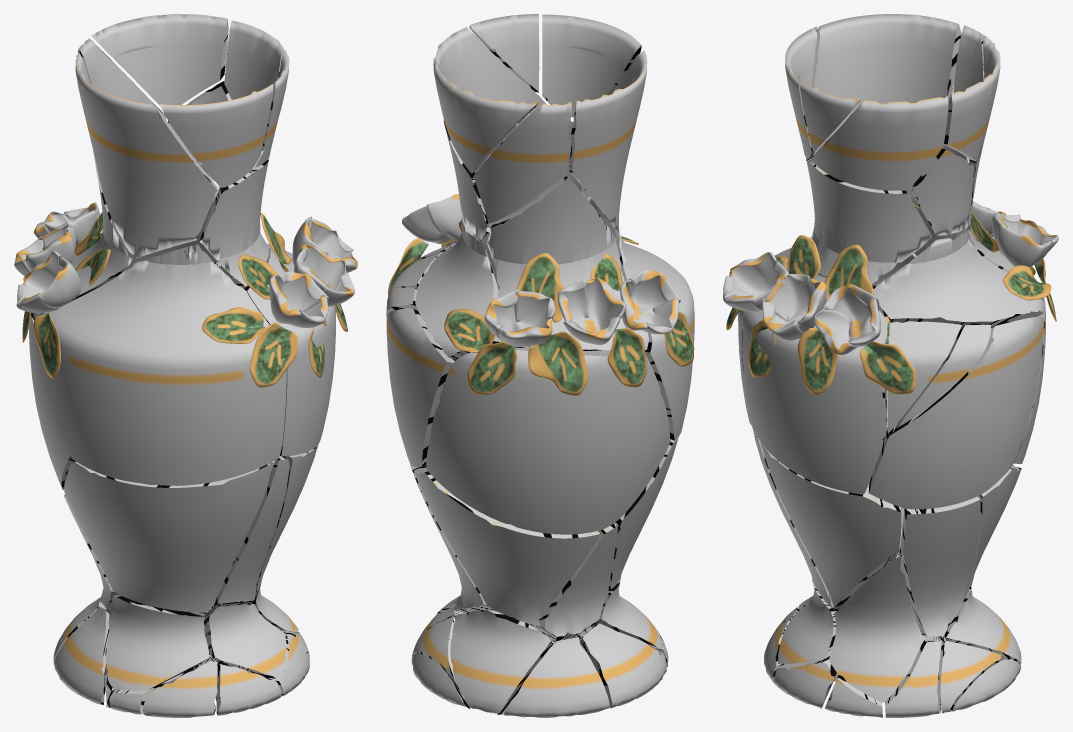
File: FbxGrandVase_Shattered.fbx
3 renders of one model, left to right at view 1: azimuth 30°, elevation 25°; view 2: azimuth 150°, elevation 25°; view 3: azimuth 270°, elevation 25°, orthographic.
Visible parts, largest first — view 1: GrandVase_Destroy.047, GrandVase_Destroy.023, GrandVase_Destroy.010, GrandVase_Destroy.022, GrandVase_Destroy.034, GrandVase_Destroy.051, GrandVase_Destroy.048, GrandVase_Destroy.019, GrandVase_Destroy.039, GrandVase_Destroy.027, GrandVase_Destroy.042, GrandVase_Destroy.009 (+22 smaller); view 2: GrandVase_Destroy.001, GrandVase_Destroy.004, GrandVase_Destroy.036, GrandVase_Destroy.057, GrandVase_Destroy.011, GrandVase_Destroy.010, GrandVase_Destroy.005, GrandVase_Destroy.048, GrandVase_Destroy.056, GrandVase_Destroy.015, GrandVase_Destroy.049, GrandVase_Destroy.044 (+19 smaller); view 3: GrandVase_Destroy.015, GrandVase_Destroy.019, GrandVase_Destroy.010, GrandVase_Destroy.020, GrandVase_Destroy.049, GrandVase_Destroy.009, GrandVase_Destroy.054, GrandVase_Destroy.012, GrandVase_Destroy.039, GrandVase_Destroy.021, GrandVase_Destroy.052, GrandVase_Destroy.007 (+23 smaller).
Part boxes in pixels (x1,y1,x2,y2): GrandVase_Destroy.047: (34, 244, 286, 485); GrandVase_Destroy.023: (64, 461, 275, 612); GrandVase_Destroy.010: (75, 52, 217, 257); GrandVase_Destroy.022: (92, 14, 228, 105); GrandVase_Destroy.034: (106, 595, 209, 690); GrandVase_Destroy.051: (202, 271, 328, 387); GrandVase_Destroy.048: (159, 83, 273, 187); GrandVase_Destroy.019: (244, 249, 335, 456); GrandVase_Destroy.039: (199, 156, 269, 287); GrandVase_Destroy.027: (204, 604, 286, 678); GrandVase_Destroy.042: (217, 456, 289, 603); GrandVase_Destroy.009: (224, 20, 284, 167); GrandVase_Destroy.001: (426, 346, 670, 534); GrandVase_Destroy.004: (413, 465, 601, 626); GrandVase_Destroy.036: (486, 176, 648, 350); GrandVase_Destroy.057: (516, 253, 626, 395); GrandVase_Destroy.011: (450, 609, 552, 712); GrandVase_Destroy.010: (569, 50, 647, 233); GrandVase_Destroy.005: (473, 102, 571, 223); GrandVase_Destroy.048: (542, 14, 641, 117); GrandVase_Destroy.056: (444, 289, 555, 394); GrandVase_Destroy.015: (386, 308, 456, 466); GrandVase_Destroy.049: (415, 217, 499, 359); GrandVase_Destroy.044: (504, 637, 609, 717); GrandVase_Destroy.015: (868, 316, 1043, 509); GrandVase_Destroy.019: (742, 275, 887, 494); GrandVase_Destroy.010: (811, 14, 961, 156); GrandVase_Destroy.020: (760, 442, 901, 607); GrandVase_Destroy.049: (872, 231, 1043, 330); GrandVase_Destroy.009: (812, 95, 948, 190); GrandVase_Destroy.054: (797, 244, 916, 394); GrandVase_Destroy.012: (829, 556, 924, 702); GrandVase_Destroy.039: (806, 155, 932, 284); GrandVase_Destroy.021: (899, 496, 980, 636); GrandVase_Destroy.052: (762, 235, 826, 340); GrandVase_Destroy.007: (911, 148, 974, 236).
Size of the model in its own units: 51.26 by 99.53 by 49.73.
